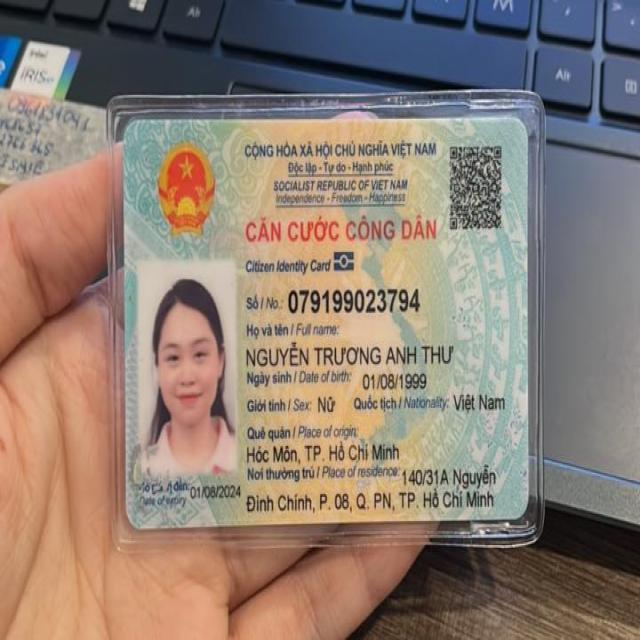bottom_left: (117, 488, 158, 542)
bottom_right: (495, 484, 541, 531)
image_person: (133, 262, 244, 476)
top_left: (114, 109, 159, 152)
top_right: (496, 102, 532, 149)
